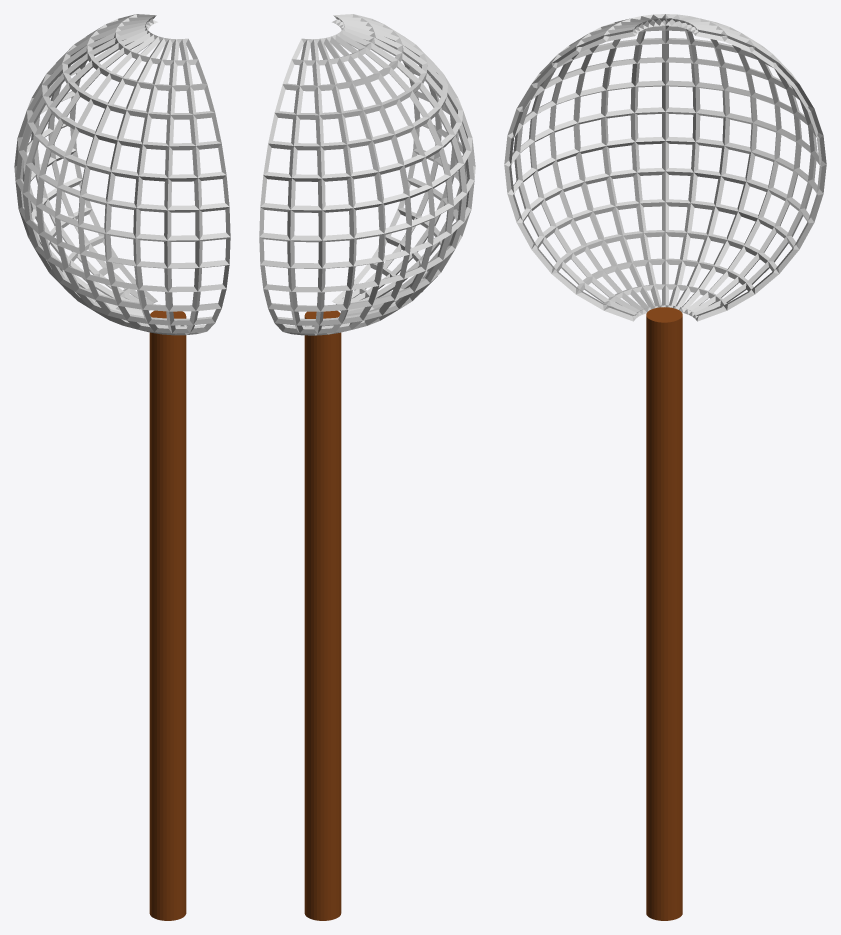
The model's file is FishingNet.fbx.
3 views of the same model, side by side, from view 1: azimuth 30°, elevation 25°; view 2: azimuth 150°, elevation 25°; view 3: azimuth 270°, elevation 25° (orthographic).
Parts seen in each view (by area): view 1: Sphere, Cylinder; view 2: Sphere, Cylinder; view 3: Sphere, Cylinder.
Part boxes in pixels (<box>): Sphere: <box>14,14,230,335</box>; Cylinder: <box>149,310,186,920</box>; Sphere: <box>259,14,475,335</box>; Cylinder: <box>304,310,341,920</box>; Sphere: <box>504,14,826,321</box>; Cylinder: <box>646,307,682,920</box>.
Bounding box in the file's own units: 403 × 2315 × 763.
